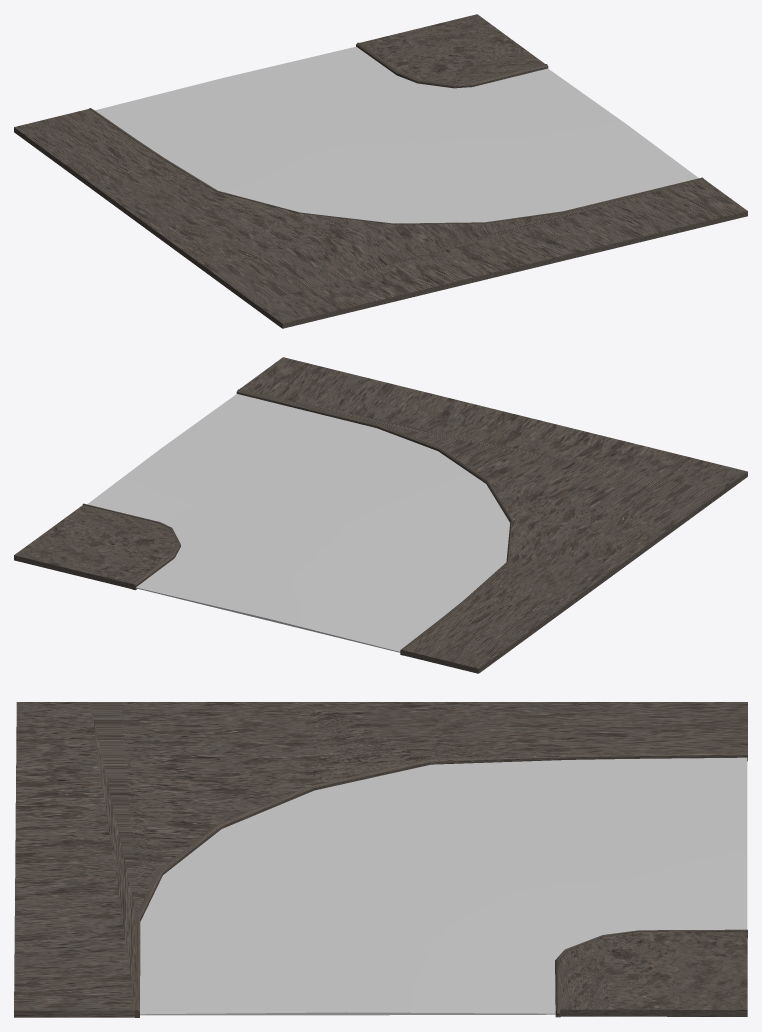
File: corner.fbx
3 views of the same model, one above another, from view 1: azimuth 30°, elevation 25°; view 2: azimuth 150°, elevation 25°; view 3: azimuth 270°, elevation 25° (orthographic). The views are drawn at different scales.
Parts seen in each view (by area): view 1: Road, side_walk9, side_walk4, curb2, curb; view 2: Road, side_walk9, side_walk4, curb2; view 3: Road, side_walk9, side_walk4, curb, curb2.
Boxes of the visible parts, x1,y1,x2,y2 form: Road: (95,46,698,223); side_walk9: (14,109,747,328); side_walk4: (360,14,545,83); curb2: (300,177,703,224); curb: (356,42,454,88); Road: (87,394,509,652); side_walk9: (239,357,747,673); side_walk4: (14,505,177,588); curb2: (236,389,511,522); Road: (140,757,747,1015); side_walk9: (14,702,747,1017); side_walk4: (560,931,747,1016); curb: (313,751,747,790); curb2: (135,785,314,1017).
Bounding box in the file's own units: 10.97 × 0.1319 × 11.03.
